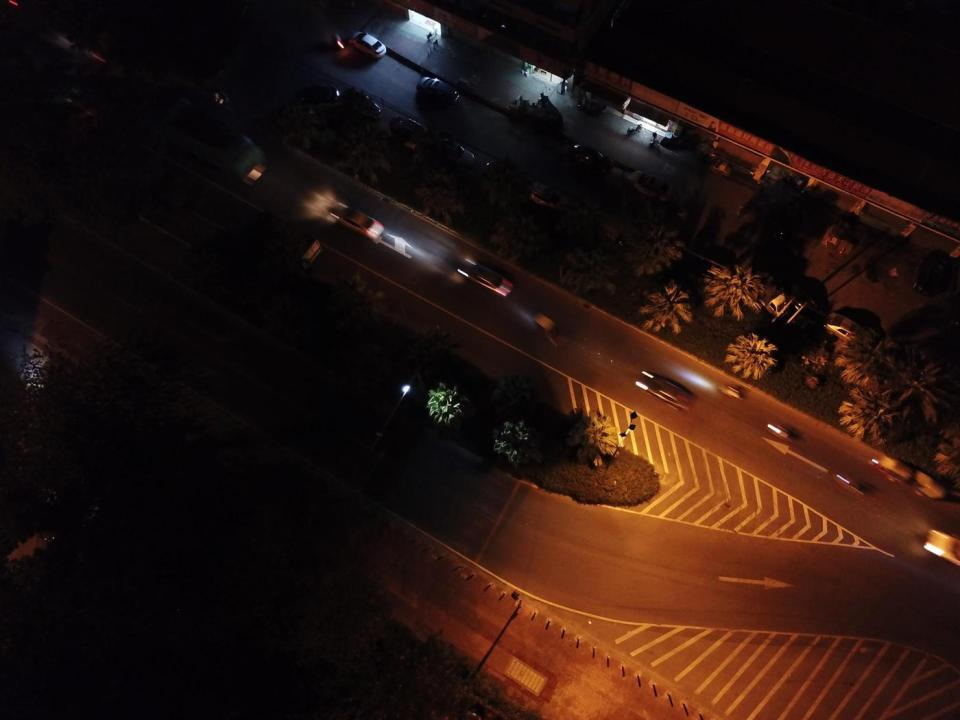bus: (140, 90, 268, 188)
car: (822, 312, 875, 350), (646, 375, 697, 413), (913, 251, 950, 298), (469, 263, 514, 298), (338, 206, 385, 239), (528, 183, 575, 216), (627, 170, 674, 203), (571, 144, 615, 177), (532, 312, 571, 348), (341, 86, 382, 120), (416, 76, 460, 106), (485, 158, 525, 188), (388, 114, 426, 144), (436, 140, 475, 169), (348, 32, 387, 59), (293, 85, 341, 104)
truck: (743, 269, 791, 317)
van: (874, 454, 947, 501)
